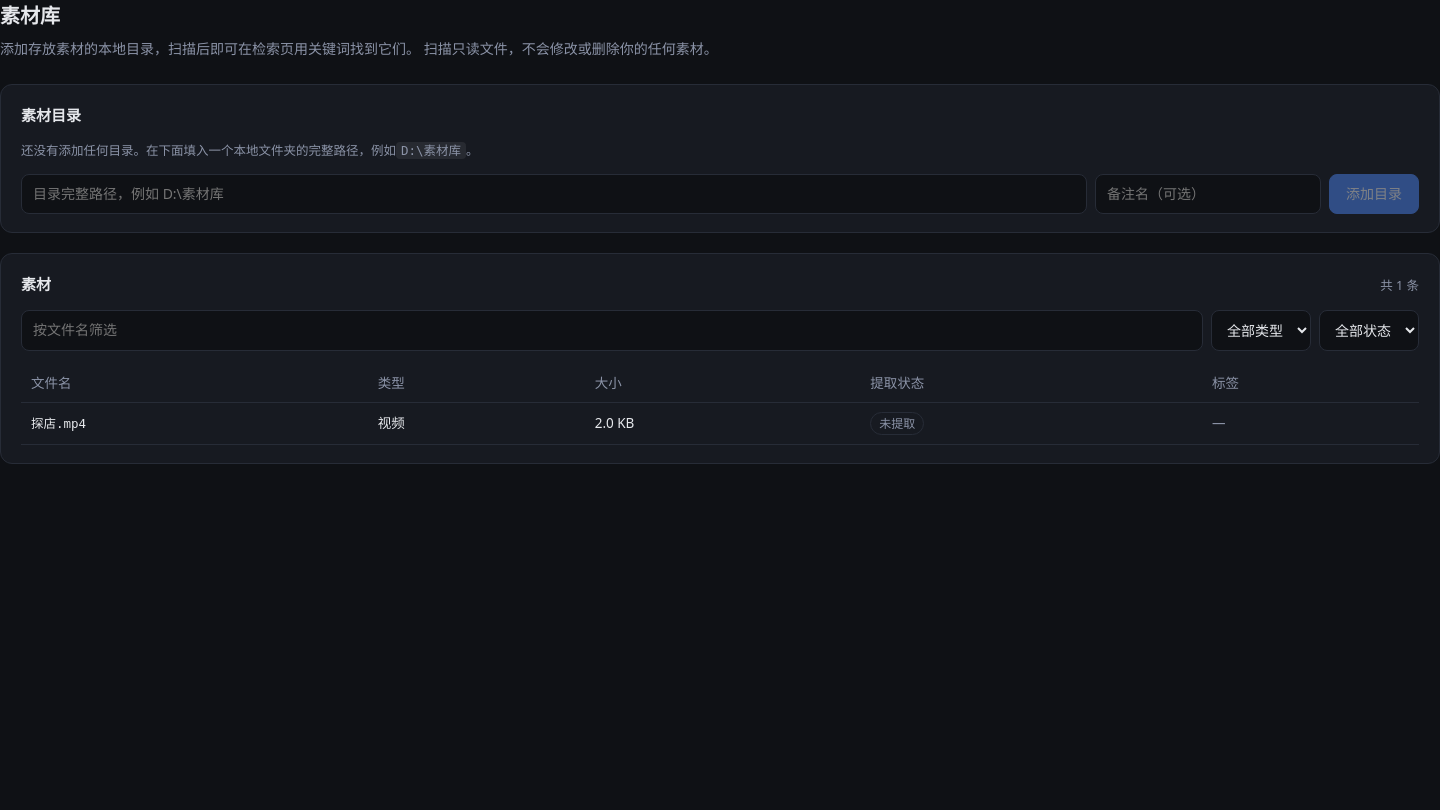
Scenario: 素材库页面 › 素材列表点击后打开详情面板
What coordinates should you click on to do the following:
click the text "探店.mp4"
I would click on:
 (194, 424)
Its box is [21,403,368,445].
(page scrolled)
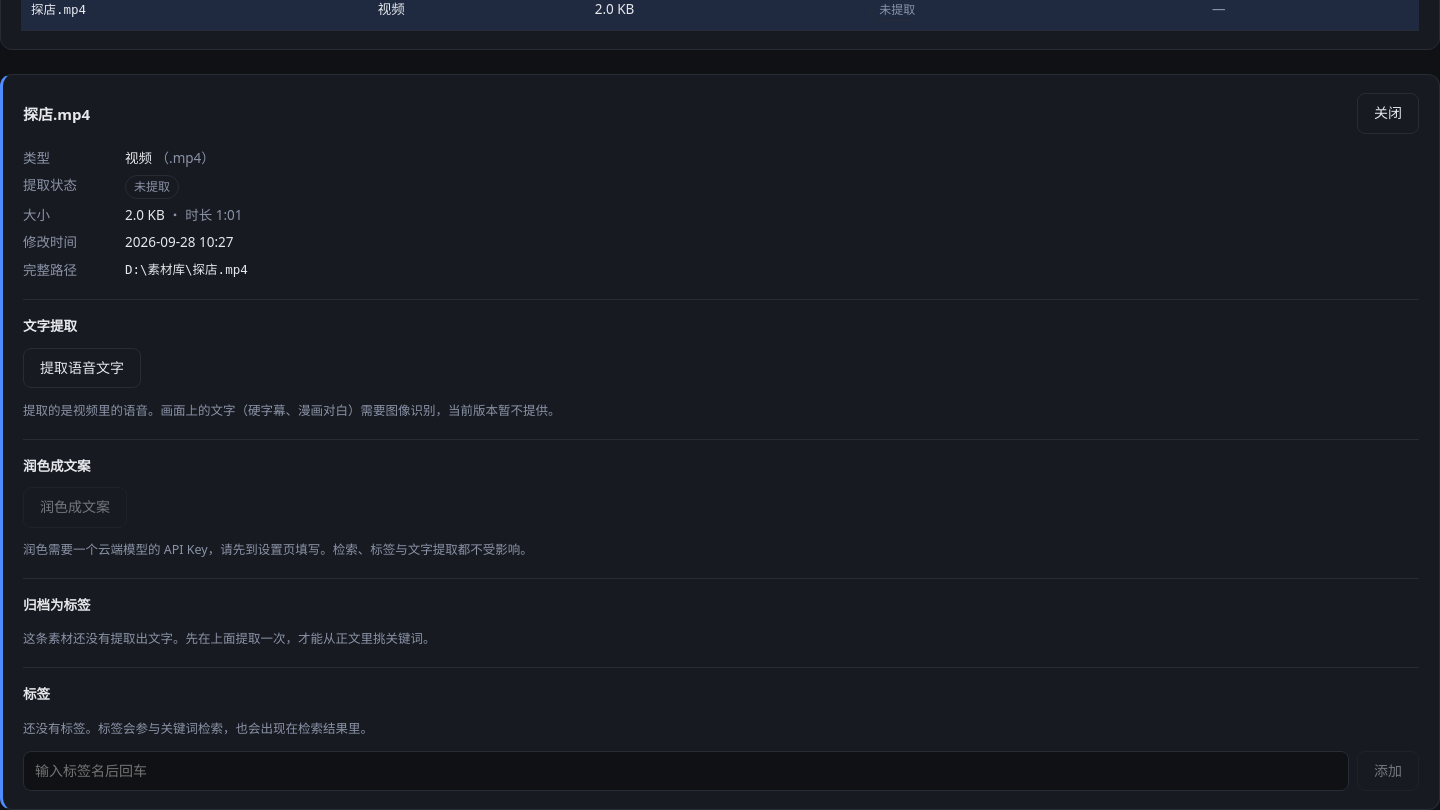
Expected: the text "・ 时长 1:01" is shown, [165,206,242,224]
Expected: the text "还没有标签。标签会参与关键词检索，也会出现在检索结果里。" is shown, [23,720,373,737]
